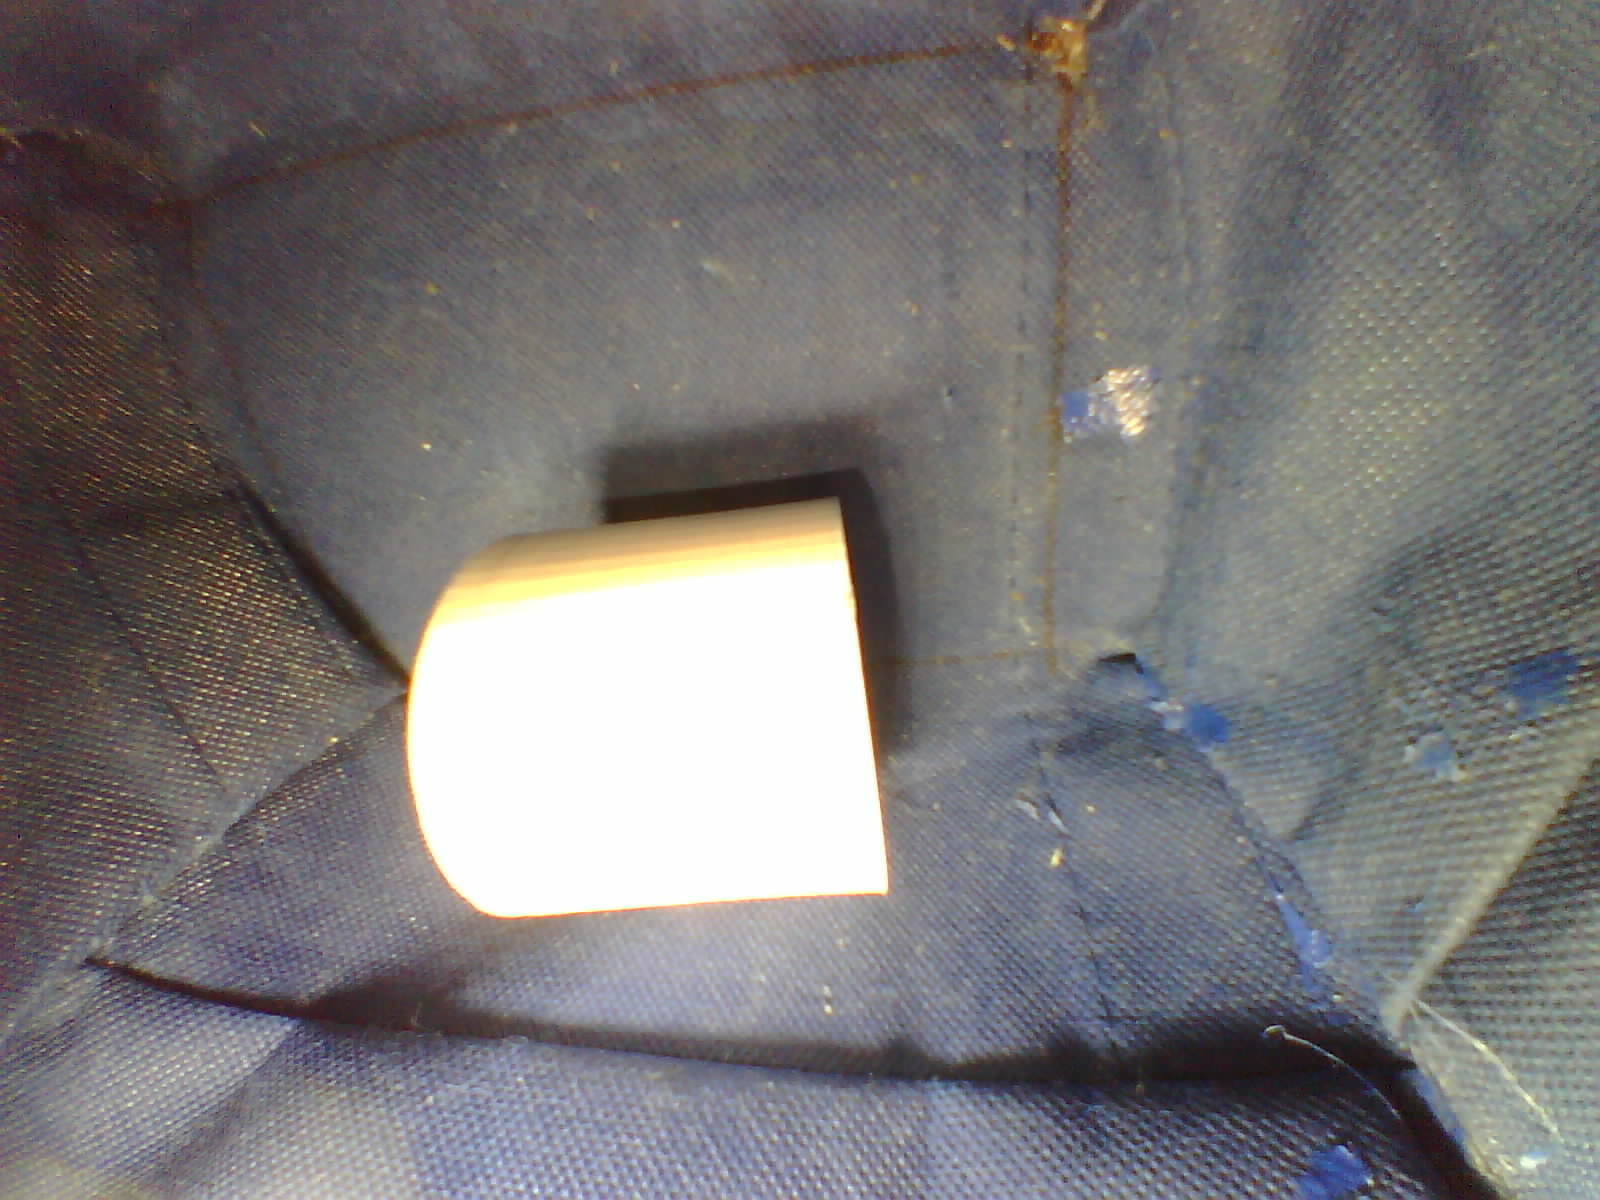cylinder-hard: (406, 483, 922, 945)
